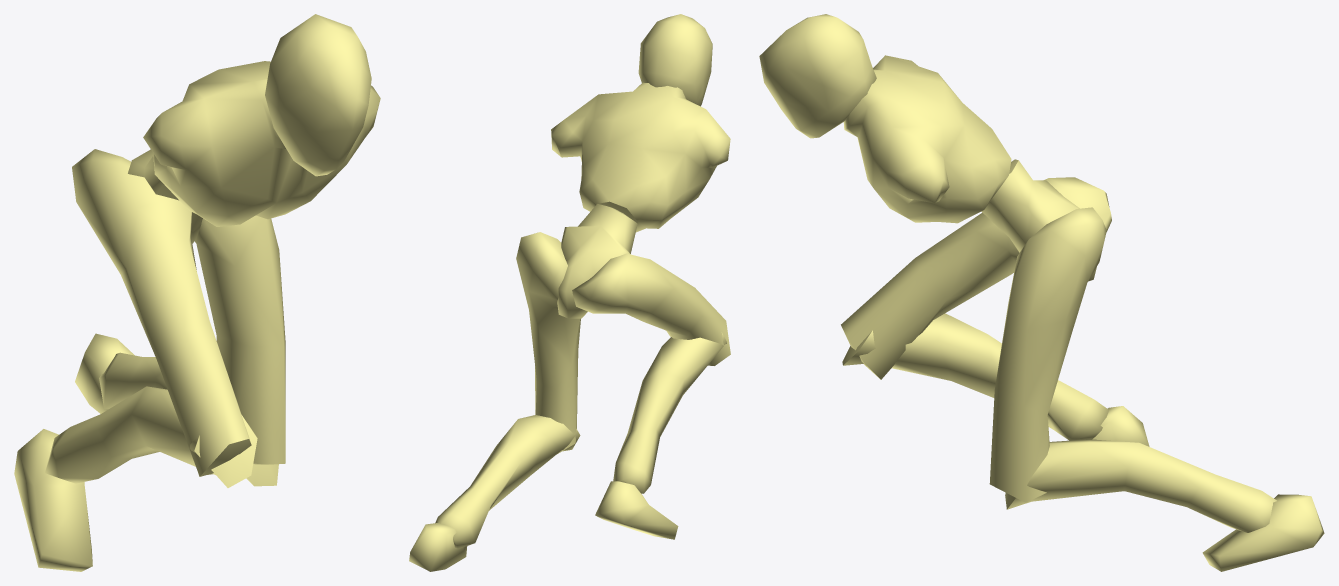
File: filth8.obj
3 renders of one model, left to right at view 1: azimuth 30°, elevation 25°; view 2: azimuth 150°, elevation 25°; view 3: azimuth 270°, elevation 25°, orthographic. The views are drawn at different scales.
Visible parts, largest first — view 1: Melee_Husk; view 2: Melee_Husk; view 3: Melee_Husk.
Boxes of the visible parts, x1,y1,x2,y2 form: Melee_Husk: [14, 14, 380, 571]; Melee_Husk: [409, 14, 730, 571]; Melee_Husk: [759, 14, 1324, 571].
Bounding box in the file's own units: 22.17 × 51.3 × 50.57.
